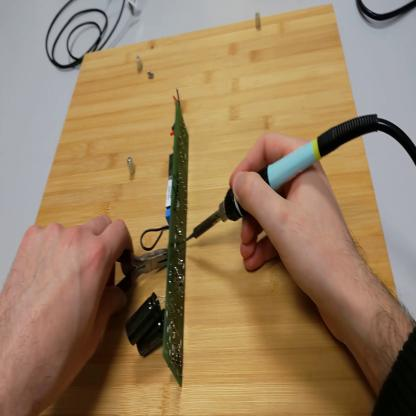hand: (1, 214, 134, 416), (229, 136, 360, 328)
high voltage board: (124, 90, 191, 387)
pliers: (117, 241, 168, 293)
welder probe tip: (183, 113, 377, 241)
working area: (36, 5, 403, 413)
